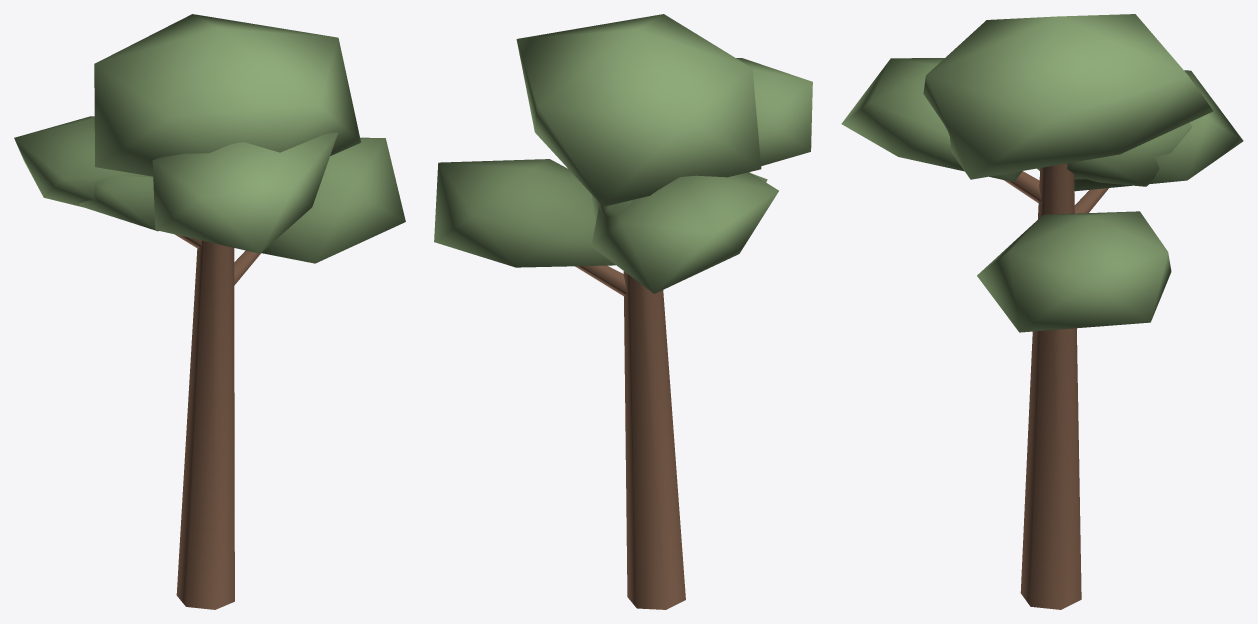
Rendered from pine.glb.
The picture shows the model from 3 angles, left to right: view 1: azimuth 30°, elevation 25°; view 2: azimuth 150°, elevation 25°; view 3: azimuth 270°, elevation 25°; orthographic projection. The views are drawn at different scales.
Visible parts, largest first — view 1: Leaves, Trunk; view 2: Leaves, Trunk; view 3: Leaves, Trunk.
Boxes of the visible parts, x1,y1,x2,y2 form: Leaves: [14, 14, 405, 263]; Trunk: [175, 234, 260, 609]; Leaves: [434, 14, 812, 293]; Trunk: [575, 265, 685, 609]; Leaves: [841, 14, 1243, 332]; Trunk: [1004, 163, 1108, 609].
Size of the model in its own units: 0.5772 by 0.9423 by 0.5826.
